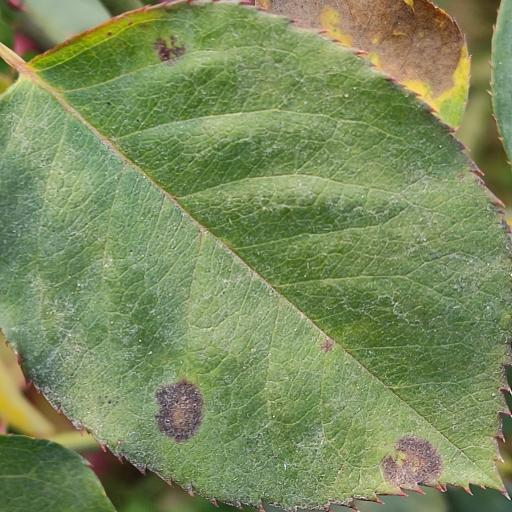black_spot: (0, 0, 512, 509)
